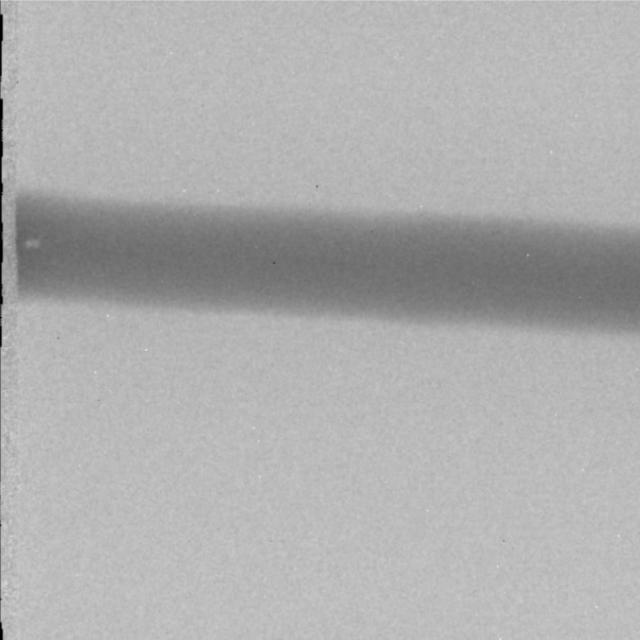air hole: (21, 236, 40, 251)
